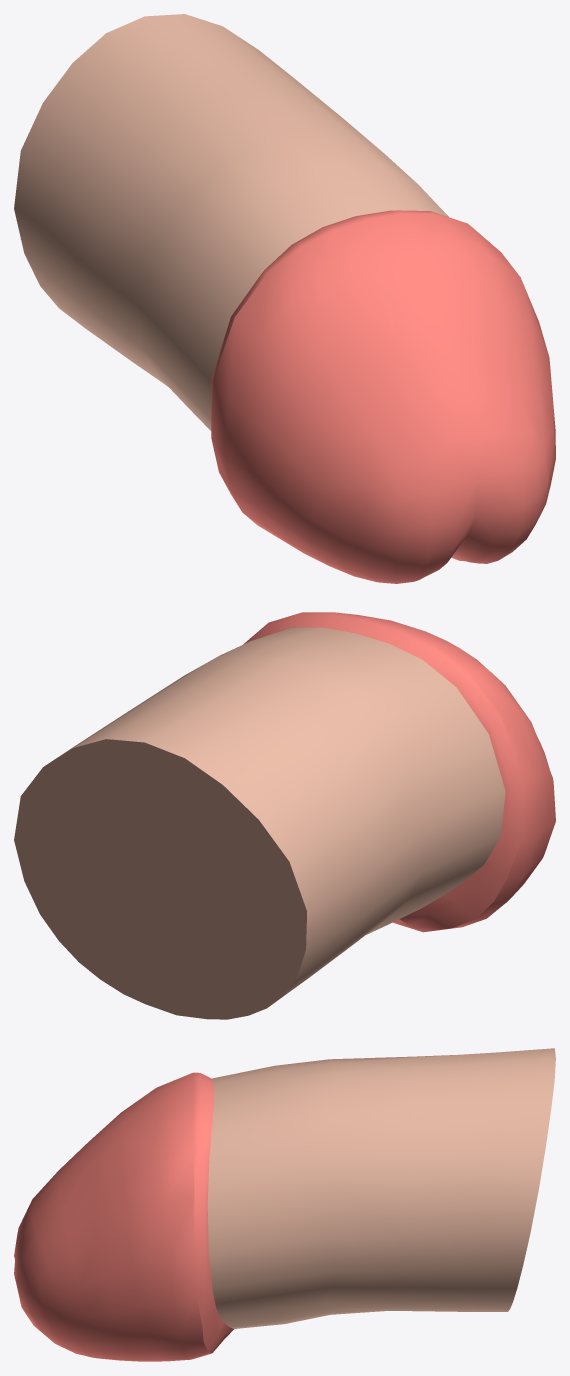
Rendered from HalfTipBroken.fbx.
The picture shows the model from 3 angles, top to bottom: view 1: azimuth 30°, elevation 25°; view 2: azimuth 150°, elevation 25°; view 3: azimuth 270°, elevation 25°; orthographic projection. The views are drawn at different scales.
Visible parts, largest first — view 1: TipPartially; view 2: TipPartially; view 3: TipPartially.
Part boxes in pixels (x1,y1,x2,y2): TipPartially: (14, 14, 555, 583); TipPartially: (14, 612, 555, 1019); TipPartially: (14, 1048, 555, 1361).
Bounding box in the file's own units: 5.25 × 5.53 × 9.72.
